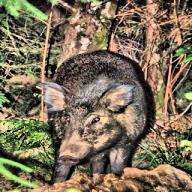boar: (39, 48, 156, 184)
